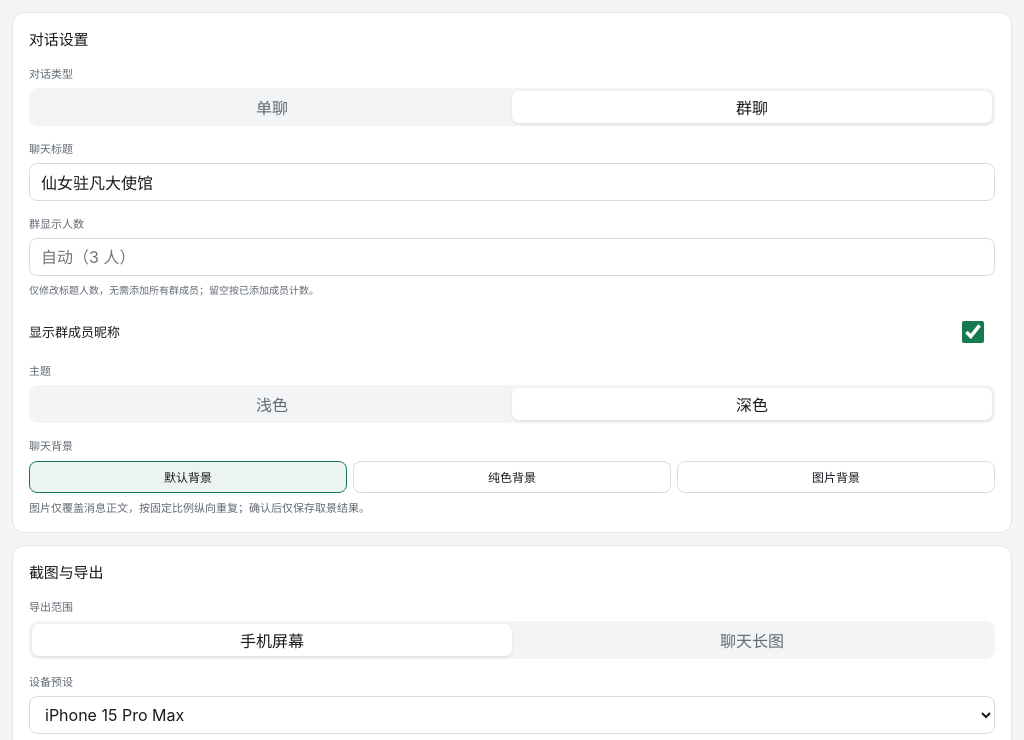
Scenario: group display settings › keeps group settings out of direct-chat titles and retains them when switching back
Step 1. Type "128" into the number field labelled "群显示人数" → (512, 257), box left=29, top=238, right=995, bottom=276
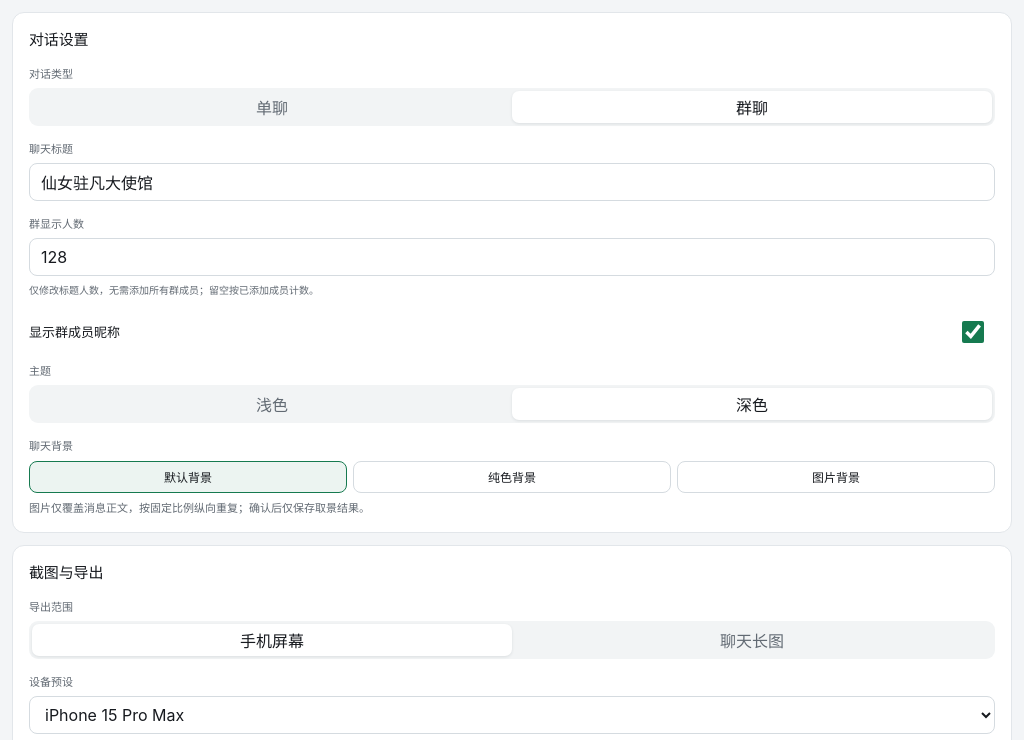
Step 2. Click the button "单聊" → (272, 107), box left=32, top=91, right=512, bottom=123
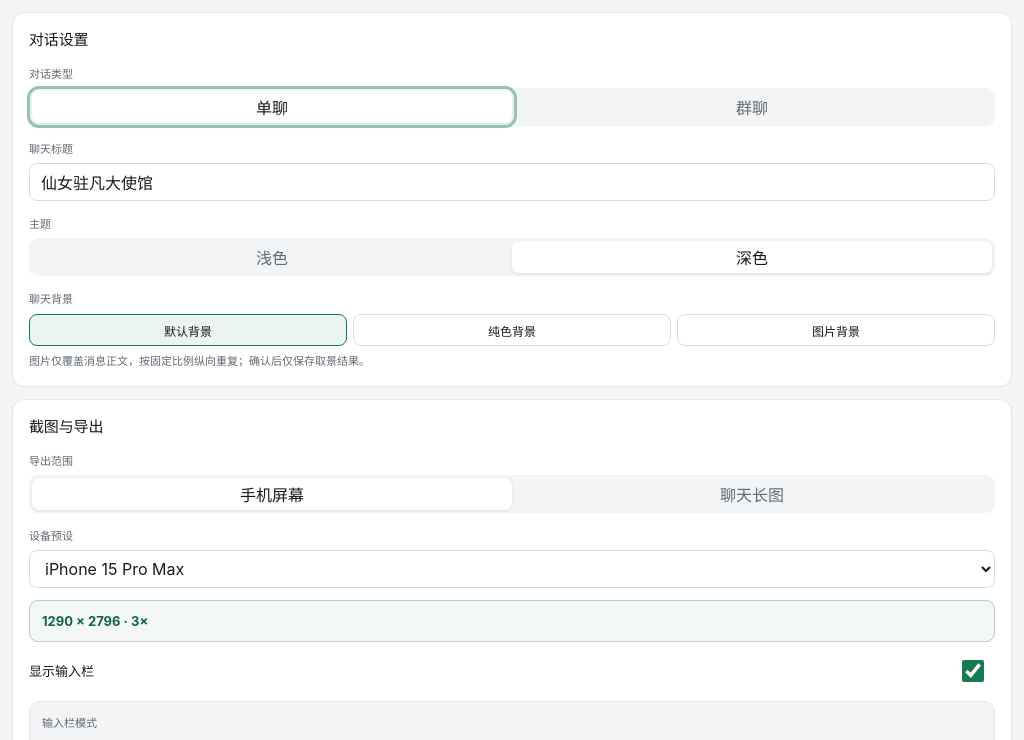
Result: the text labelled "群显示人数" is gone
Step 3. Click the button "群聊" → (752, 107), box left=512, top=91, right=992, bottom=123
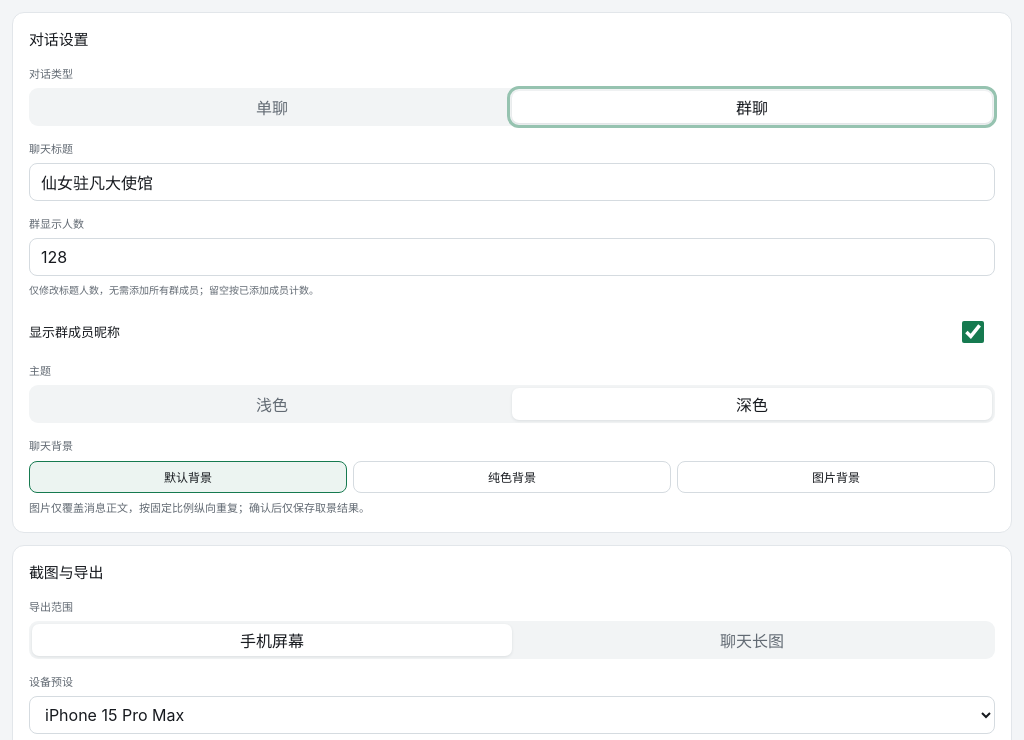
Result: the number field labelled "群显示人数" holds "128" at left=29, top=238, right=995, bottom=276
